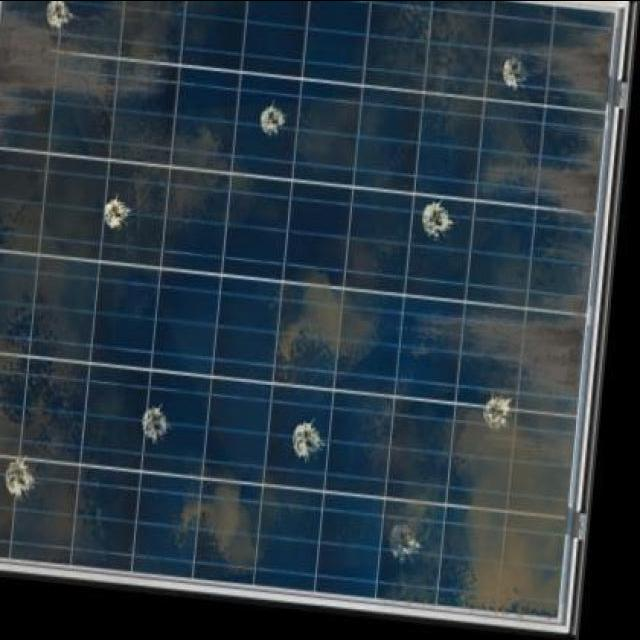soiled: (0, 2, 631, 630)
